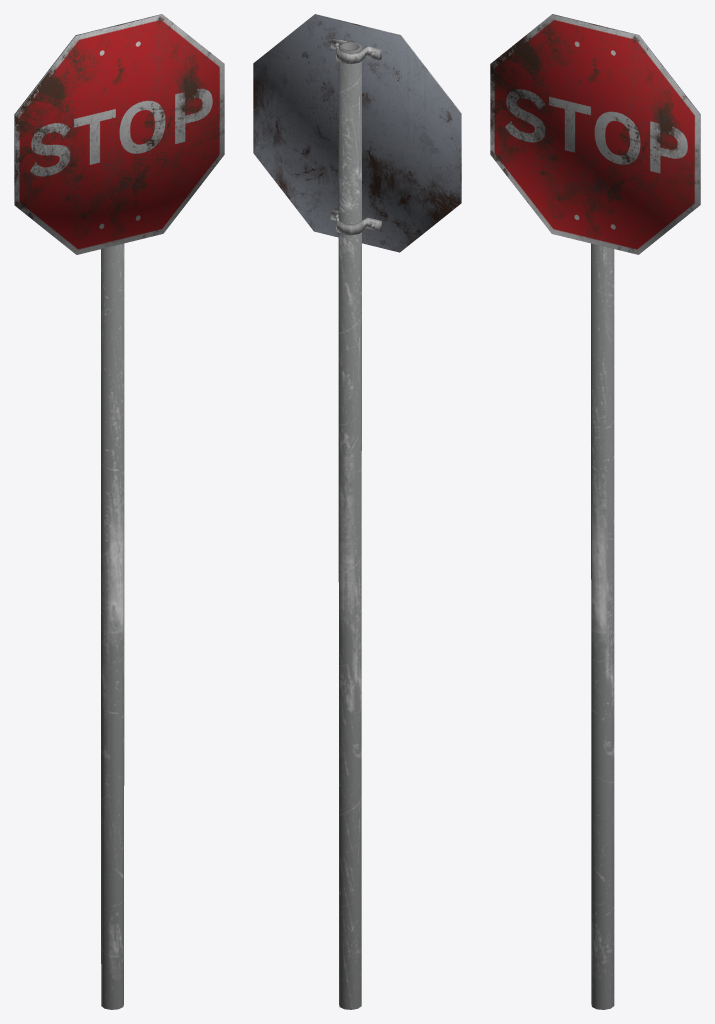
The model's file is Traffic_sign_0.glb.
3 views of the same model, side by side, from view 1: azimuth 30°, elevation 25°; view 2: azimuth 150°, elevation 25°; view 3: azimuth 330°, elevation 25° (orthographic).
Parts seen in each view (by area): view 1: stop_Stop_Sign_0, stop_Sign_Pole3_0; view 2: stop_Stop_Sign_0, stop_Sign_Pole3_0, stop_Sign_Support3_0; view 3: stop_Stop_Sign_0, stop_Sign_Pole3_0.
Part boxes in pixels (box(x1,y1,x2,y2)): stop_Stop_Sign_0: box(14, 14, 224, 254); stop_Sign_Pole3_0: box(101, 243, 124, 1009); stop_Stop_Sign_0: box(253, 14, 461, 252); stop_Sign_Pole3_0: box(338, 41, 361, 1009); stop_Sign_Support3_0: box(330, 37, 381, 235); stop_Stop_Sign_0: box(490, 14, 700, 254); stop_Sign_Pole3_0: box(591, 243, 614, 1009).
Size of the model in its own units: 1.34 by 6.01 by 0.1676.
Materials: 4 (4 with a texture image).
